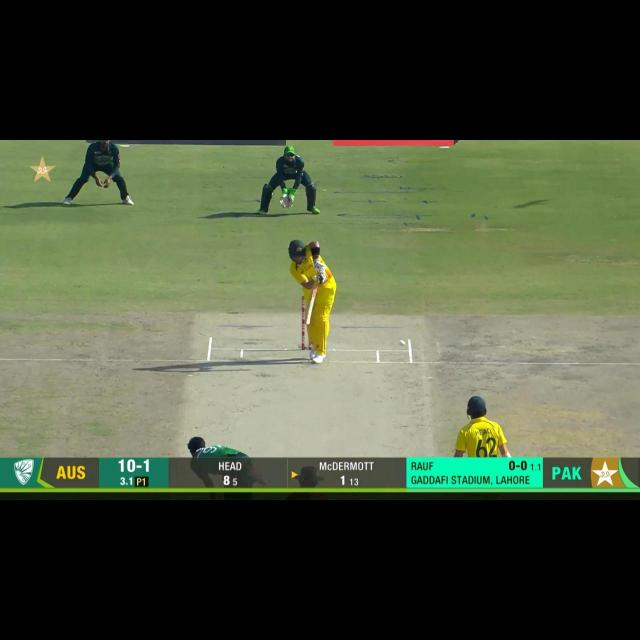bat: (302, 280, 320, 326)
toe: (302, 316, 312, 325)
